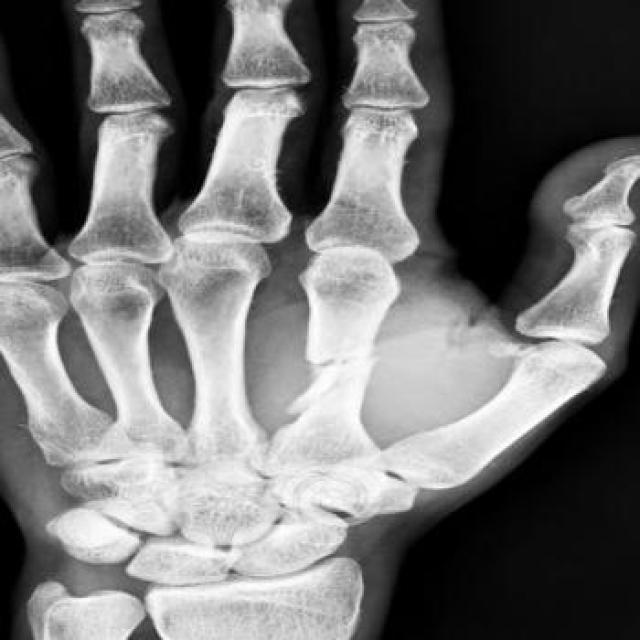Fracture: (286, 341, 400, 431)
